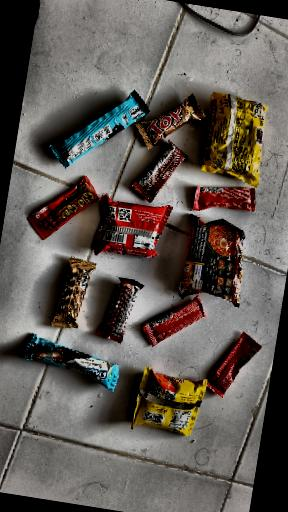chocho: (21, 165, 104, 245), (136, 286, 220, 362), (210, 324, 259, 407)
dilan: (41, 71, 152, 175), (13, 331, 126, 403)
indomie: (195, 86, 280, 189)
momotaro: (130, 363, 214, 452), (89, 191, 177, 269)
top: (136, 85, 210, 149), (125, 135, 191, 206), (53, 254, 101, 339), (106, 272, 148, 352)
